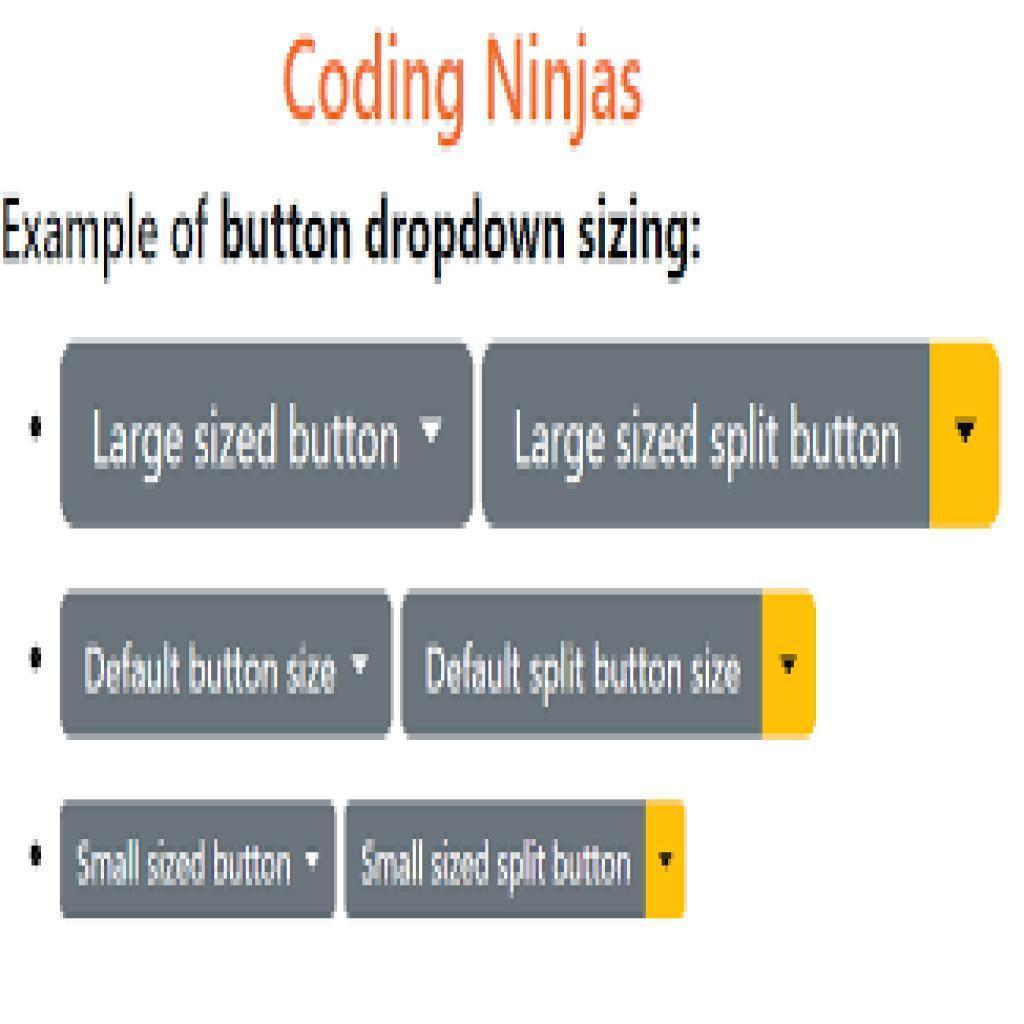dropdown: (481, 344, 1002, 529), (62, 344, 474, 528), (403, 589, 816, 740), (60, 590, 394, 741), (345, 799, 688, 921), (59, 800, 338, 917)
